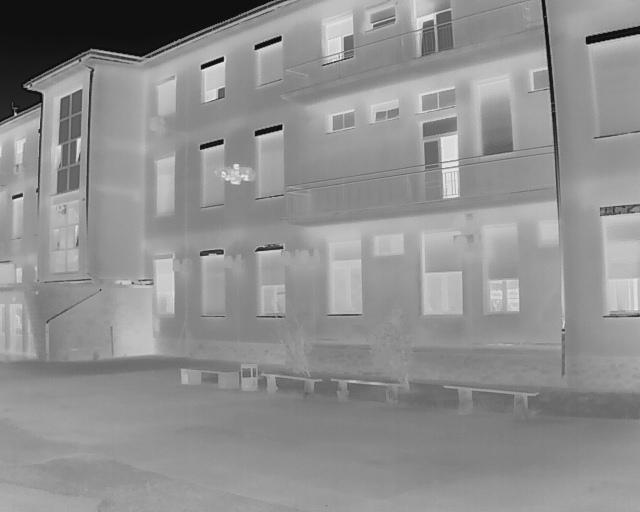drone: (212, 162, 258, 190)
